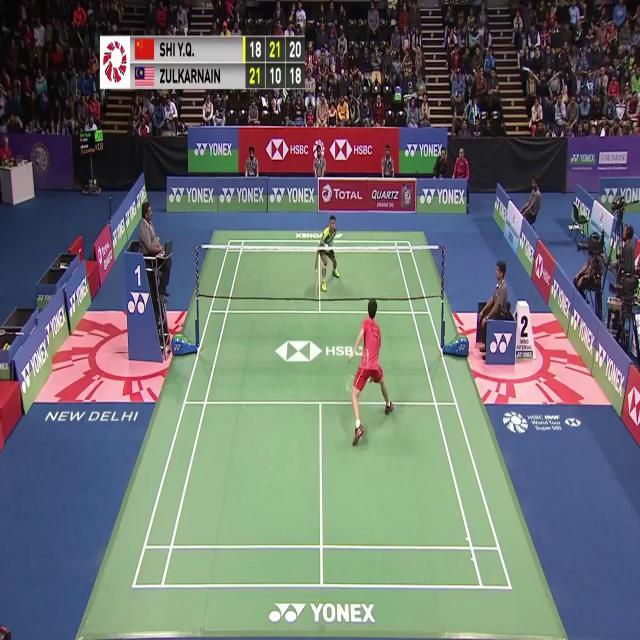Shuttlecock: (323, 239, 329, 250)
